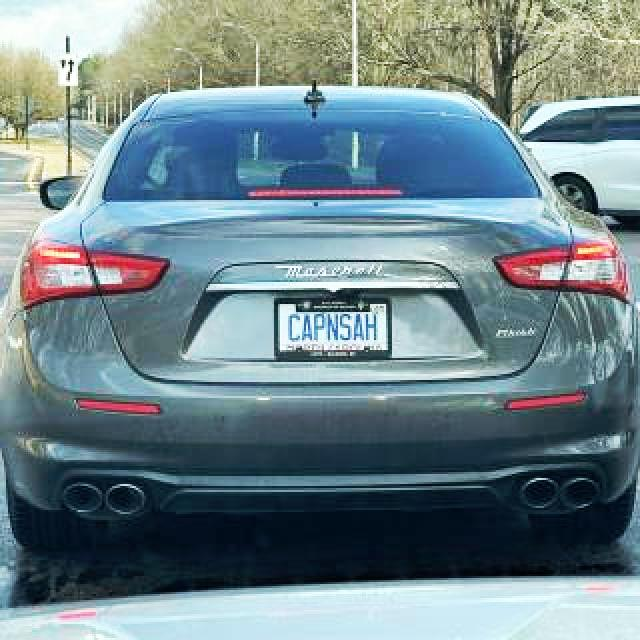license_plate: (276, 302, 394, 361)
